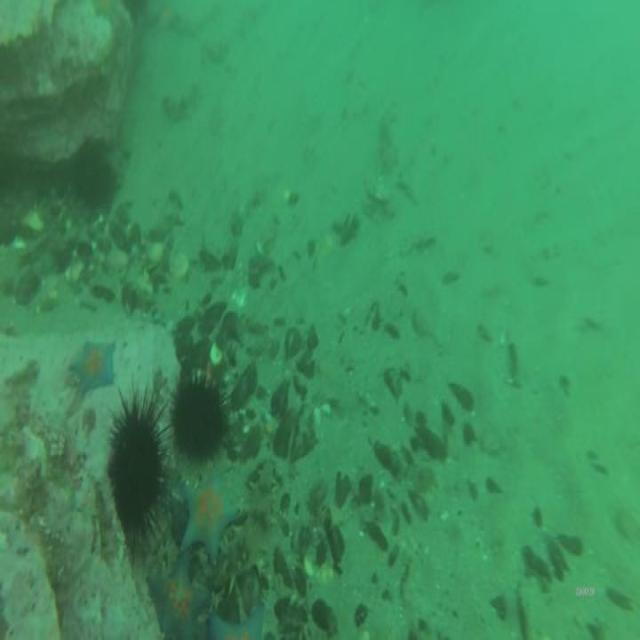echinus: (110, 408, 164, 536), (174, 382, 222, 458), (73, 152, 115, 202)
holothurian: (214, 464, 276, 582)
starfish: (177, 477, 241, 553), (147, 556, 209, 629), (68, 342, 116, 394)
